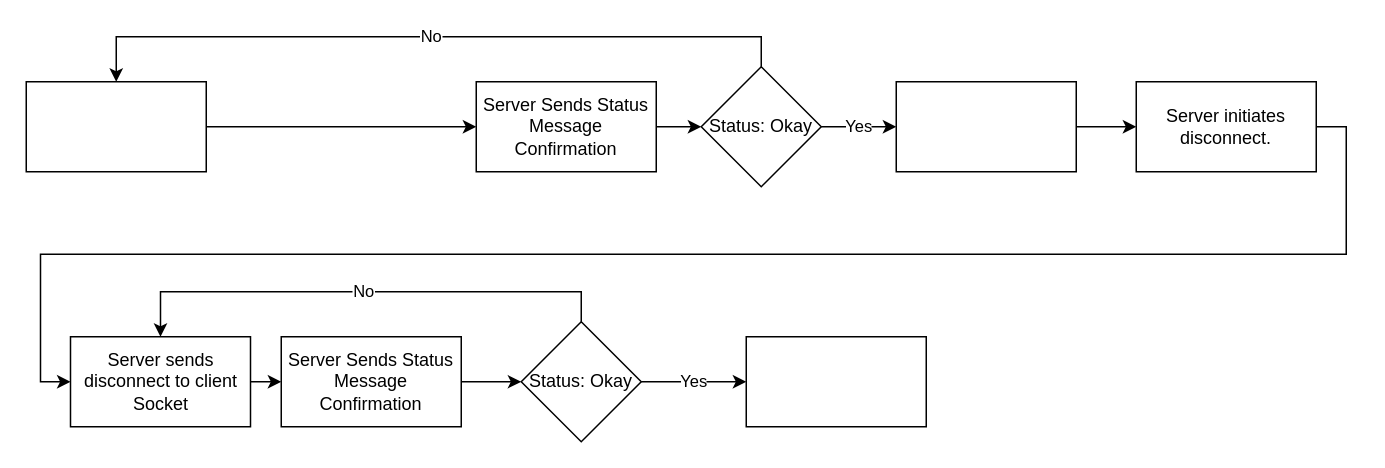
Some shapes in this 1385 by 468 pixel diagram are drawn without their labels. Here are the shapes that lost their labels. From the top down, the box of each, then its label:
(25, 80, 206, 172): Client Sends Command: quit through Control Socket
(895, 80, 1076, 172): Server receives command quit on Control Socket
(745, 335, 926, 427): Client closes Control Socket
